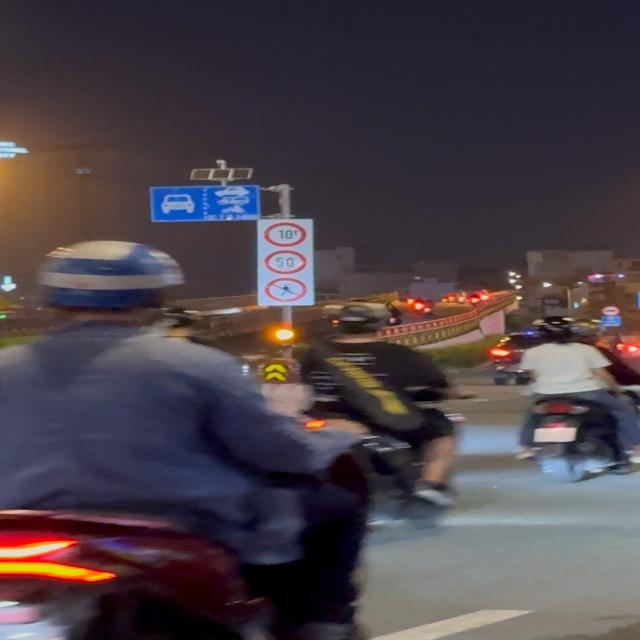Bien bao cam nguoi di bo: (265, 277, 309, 302)
Bien bao toc do toi da cho phep: (263, 250, 309, 275)
